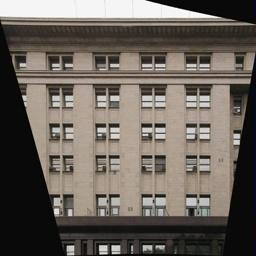building: (0, 10, 256, 256)
